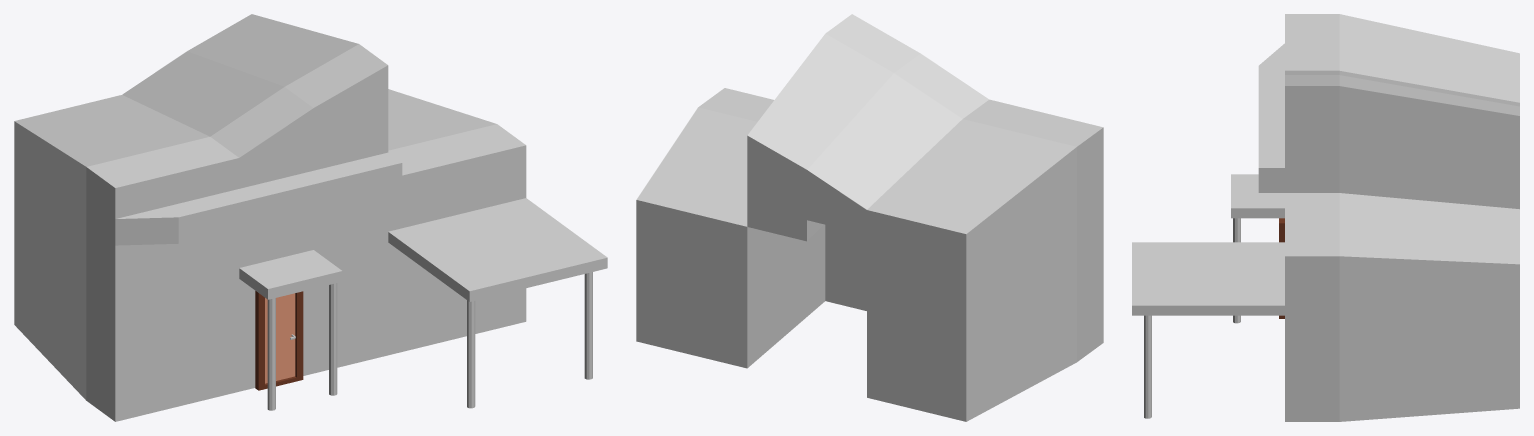
File: house_1.dae
3 views of the same model, side by side, from view 1: azimuth 30°, elevation 25°; view 2: azimuth 150°, elevation 25°; view 3: azimuth 270°, elevation 25° (orthographic). The views are drawn at different scales.
Visible parts, largest first — view 1: Cube.028, Cube.030, Cylinder.008, Cylinder.009, Door.004, Door.001; view 2: Cube.028; view 3: Cube.028, Cube.030, Cylinder.009.
Boxes of the visible parts, x1,y1,x2,y2 form: Cube.028: (14, 14, 607, 421); Cube.030: (239, 250, 342, 299); Cylinder.008: (267, 283, 337, 410); Cylinder.009: (467, 272, 592, 408); Door.004: (265, 293, 295, 383); Door.001: (255, 291, 303, 390); Cube.028: (636, 14, 1103, 421); Cube.028: (1132, 14, 1519, 421); Cube.030: (1231, 174, 1284, 218); Cylinder.009: (1144, 315, 1151, 418).
Bounding box in the file's own units: 8.49 × 7.39 × 5.74.
